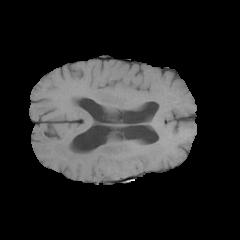glioma: (52, 114, 176, 173)
